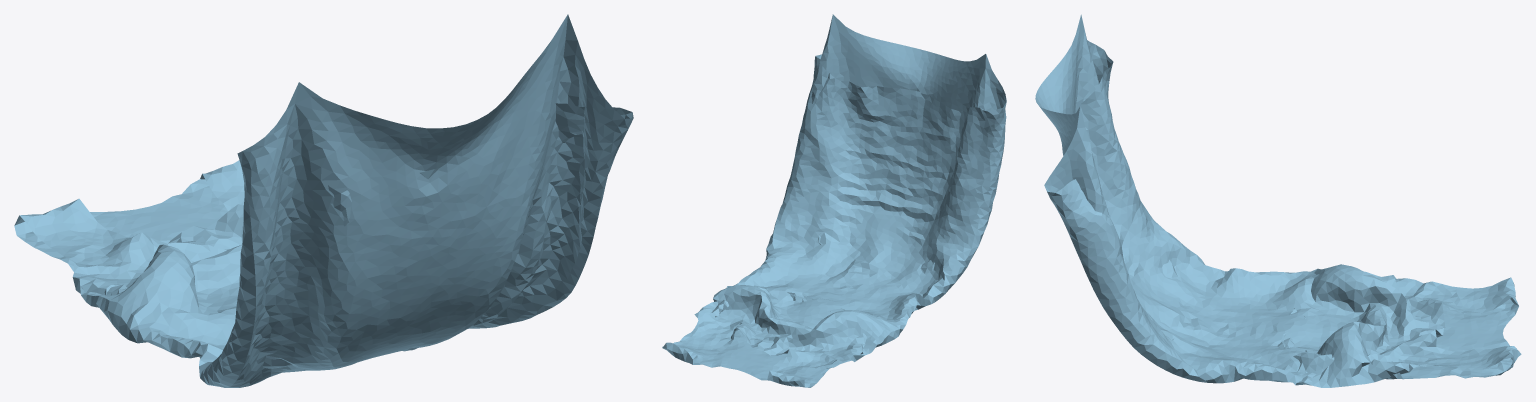
The model's file is frame_07.glb.
3 views of the same model, side by side, from view 1: azimuth 30°, elevation 25°; view 2: azimuth 150°, elevation 25°; view 3: azimuth 270°, elevation 25° (orthographic). The views are drawn at different scales.
Parts seen in each view (by area): view 1: frame_07.obj; view 2: frame_07.obj; view 3: frame_07.obj.
Boxes of the visible parts, x1,y1,x2,y2 form: frame_07.obj: [14, 14, 633, 387]; frame_07.obj: [662, 14, 1006, 387]; frame_07.obj: [1035, 14, 1521, 387].
Size of the model in its own units: 0.928 by 0.9346 by 1.5.
